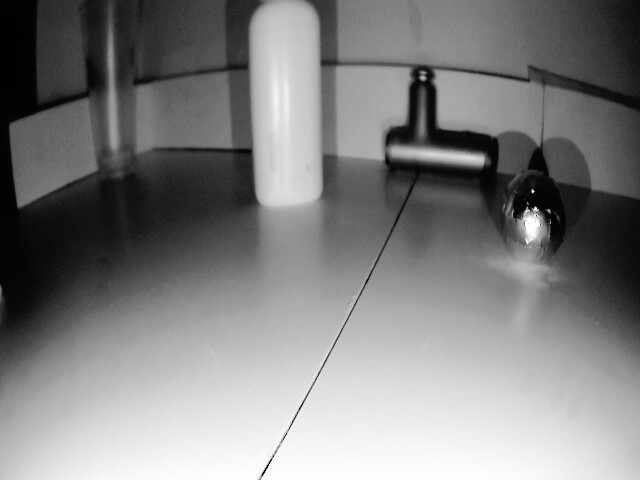silver: (485, 164, 571, 281)
